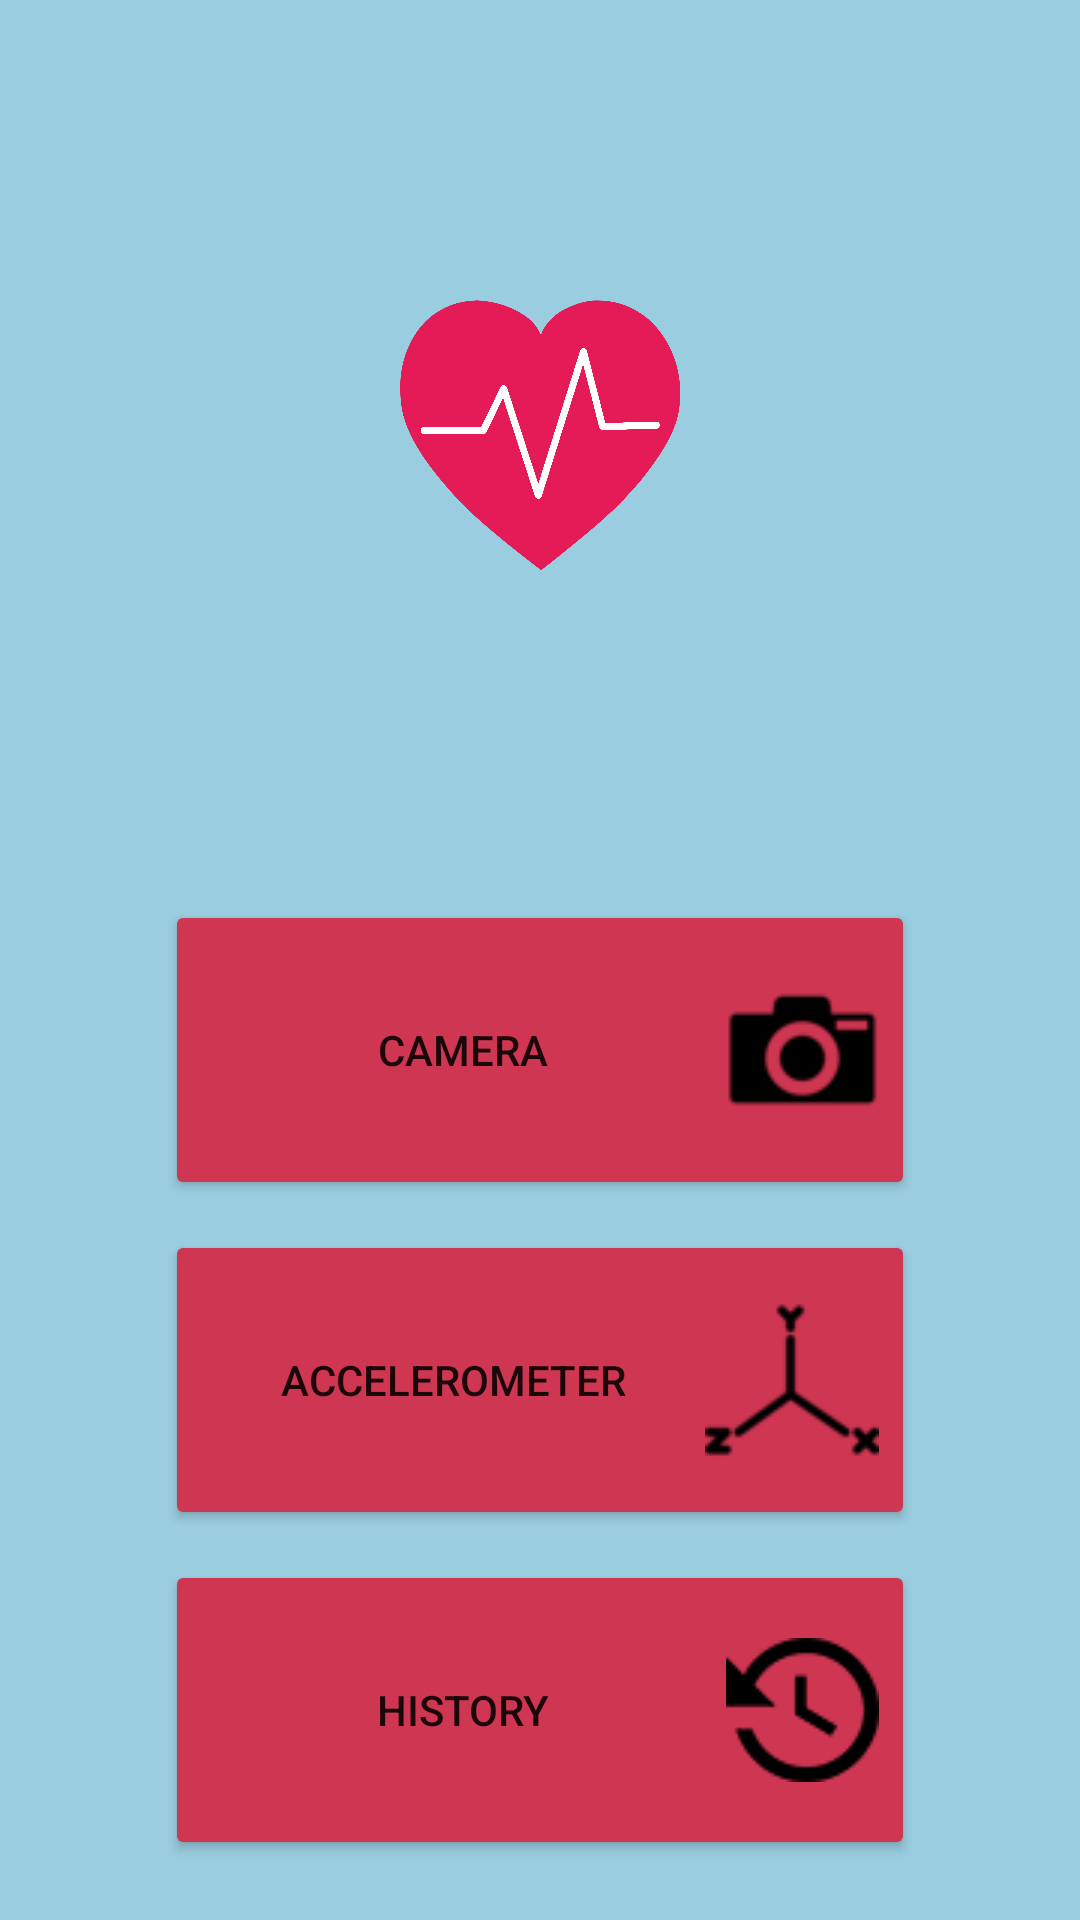

Point at icon controls on the screen. Image size 1080 × 1920, points as [x,y].
heart: [540,435]
